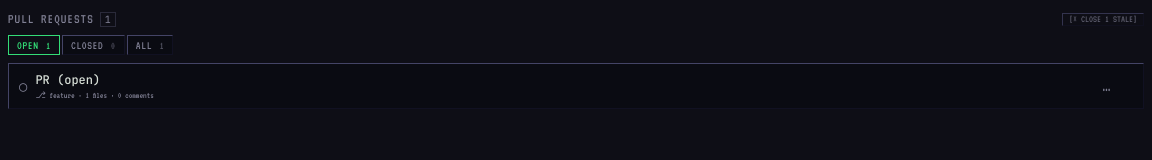
Test: PRList component › shows filtered empty state for closed view when no closed PRs
# Switch to closed tab
Click the button "CLOSED 0" at (93, 45), box [62,35,125,55]
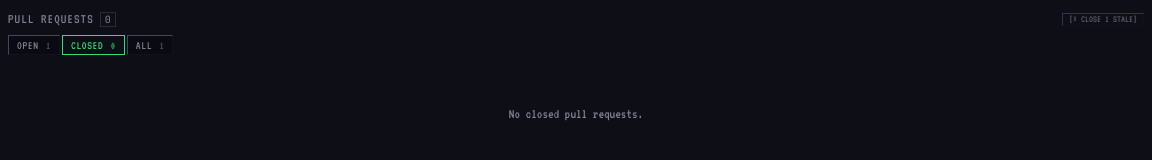
Expected: the text "No closed pull requests." is shown, [509,107,643,121]
